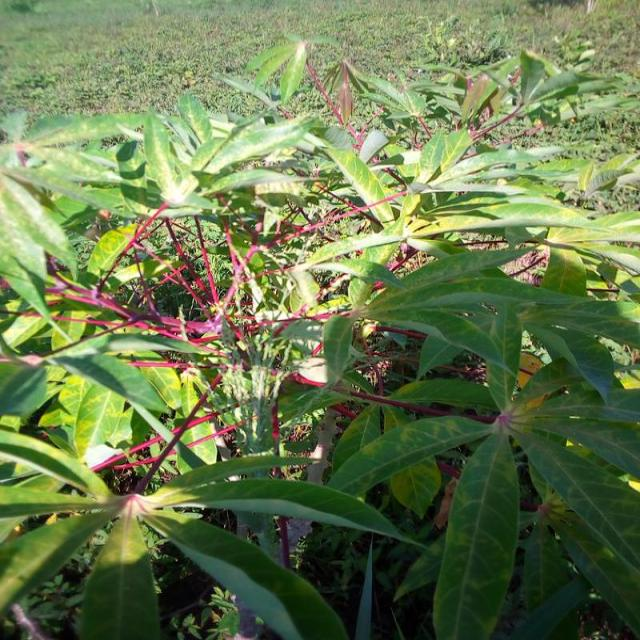cassava leaf: (1, 34, 638, 638), (431, 421, 520, 638)
